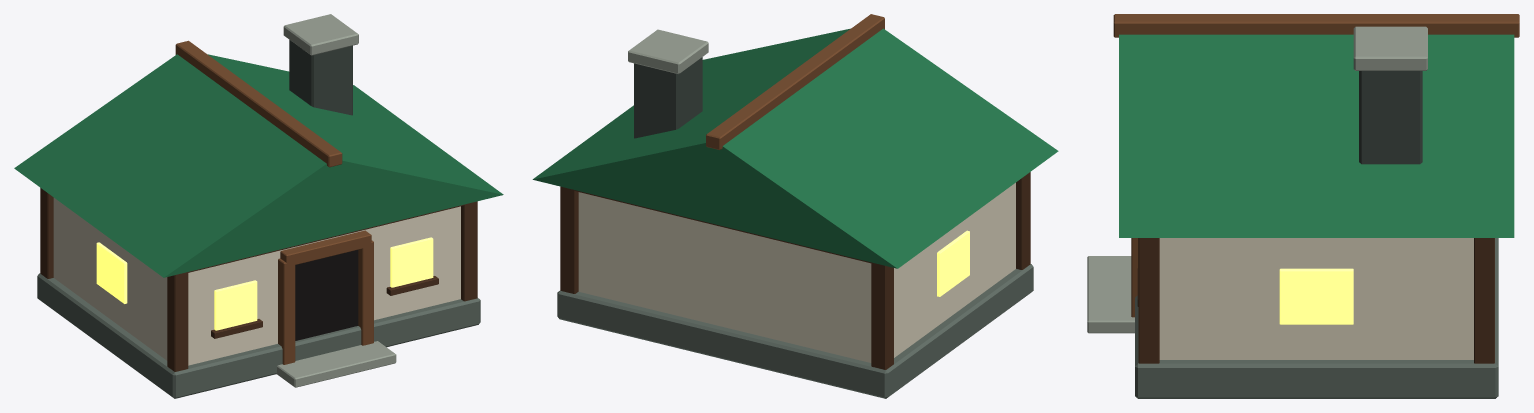
File: EM_MeadowCottage_A.glb
3 renders of one model, left to right at view 1: azimuth 30°, elevation 25°; view 2: azimuth 150°, elevation 25°; view 3: azimuth 270°, elevation 25°, orthographic. The views are drawn at different scales.
Visible parts, largest first — view 1: EM_MeadowCottage_A__RoofEmerald, EM_MeadowCottage_A__Plaster, EM_MeadowCottage_A__StoneBase, EM_MeadowCottage_A__Timber, EM_MeadowCottage_A__TimberDark, EM_MeadowCottage_A__WarmGlow, EM_MeadowCottage_A__StoneLight, EM_MeadowCottage_A__DoorVoid, EM_MeadowCottage_A__StoneDark; view 2: EM_MeadowCottage_A__RoofEmerald, EM_MeadowCottage_A__Plaster, EM_MeadowCottage_A__StoneBase, EM_MeadowCottage_A__TimberDark, EM_MeadowCottage_A__StoneDark, EM_MeadowCottage_A__Timber, EM_MeadowCottage_A__StoneLight, EM_MeadowCottage_A__WarmGlow; view 3: EM_MeadowCottage_A__RoofEmerald, EM_MeadowCottage_A__Plaster, EM_MeadowCottage_A__StoneBase, EM_MeadowCottage_A__Timber, EM_MeadowCottage_A__StoneLight, EM_MeadowCottage_A__StoneDark, EM_MeadowCottage_A__TimberDark, EM_MeadowCottage_A__WarmGlow.
Part boxes in pixels (left/top/right/bottom): EM_MeadowCottage_A__RoofEmerald: left=14, top=54, right=503, bottom=277; EM_MeadowCottage_A__Plaster: left=53, top=198, right=460, bottom=365; EM_MeadowCottage_A__StoneBase: left=37, top=273, right=480, bottom=398; EM_MeadowCottage_A__Timber: left=175, top=40, right=373, bottom=364; EM_MeadowCottage_A__TimberDark: left=40, top=188, right=477, bottom=371; EM_MeadowCottage_A__WarmGlow: left=96, top=237, right=433, bottom=330; EM_MeadowCottage_A__StoneLight: left=276, top=14, right=396, bottom=387; EM_MeadowCottage_A__DoorVoid: left=295, top=250, right=358, bottom=340; EM_MeadowCottage_A__StoneDark: left=289, top=40, right=352, bottom=115; EM_MeadowCottage_A__RoofEmerald: left=532, top=28, right=1058, bottom=268; EM_MeadowCottage_A__Plaster: left=578, top=182, right=1015, bottom=362; EM_MeadowCottage_A__StoneBase: left=557, top=264, right=1033, bottom=398; EM_MeadowCottage_A__TimberDark: left=560, top=172, right=1030, bottom=369; EM_MeadowCottage_A__StoneDark: left=634, top=57, right=702, bottom=138; EM_MeadowCottage_A__Timber: left=706, top=14, right=884, bottom=149; EM_MeadowCottage_A__StoneLight: left=628, top=29, right=708, bottom=74; EM_MeadowCottage_A__WarmGlow: left=937, top=230, right=969, bottom=296; EM_MeadowCottage_A__RoofEmerald: left=1119, top=34, right=1514, bottom=237; EM_MeadowCottage_A__Plaster: left=1159, top=238, right=1473, bottom=359; EM_MeadowCottage_A__StoneBase: left=1135, top=238, right=1498, bottom=398; EM_MeadowCottage_A__Timber: left=1113, top=14, right=1519, bottom=317; EM_MeadowCottage_A__StoneLight: left=1087, top=26, right=1427, bottom=333; EM_MeadowCottage_A__StoneDark: left=1359, top=71, right=1422, bottom=164; EM_MeadowCottage_A__TimberDark: left=1137, top=238, right=1494, bottom=363; EM_MeadowCottage_A__WarmGlow: left=1279, top=268, right=1353, bottom=324.
Size of the model in its own units: 29.4 by 19.85 by 24.5.
